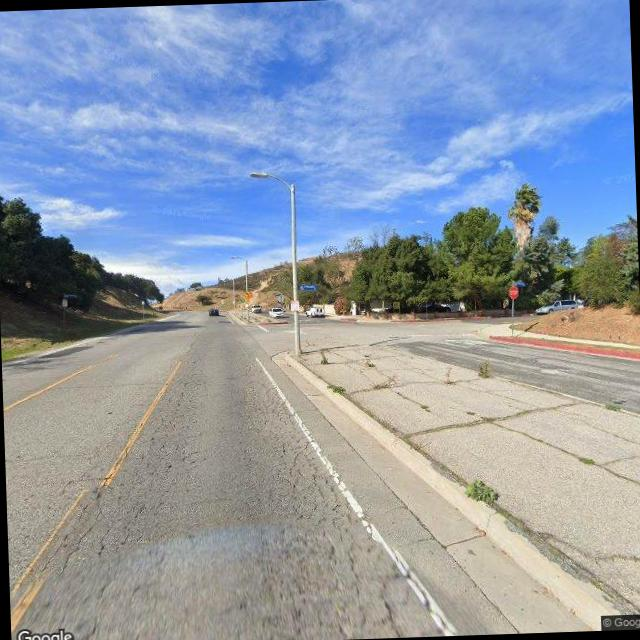crack: (234, 352, 435, 640), (33, 378, 207, 626)
